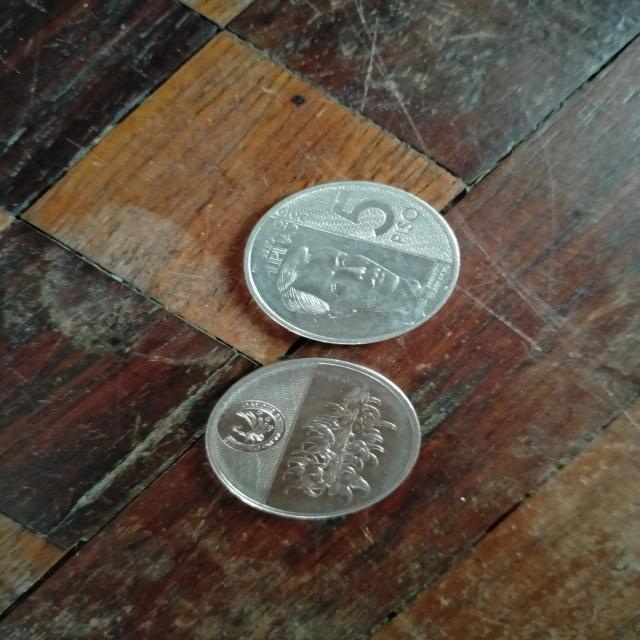5_New_Back: (285, 379, 399, 507)
5_New_Front: (328, 185, 422, 248)
